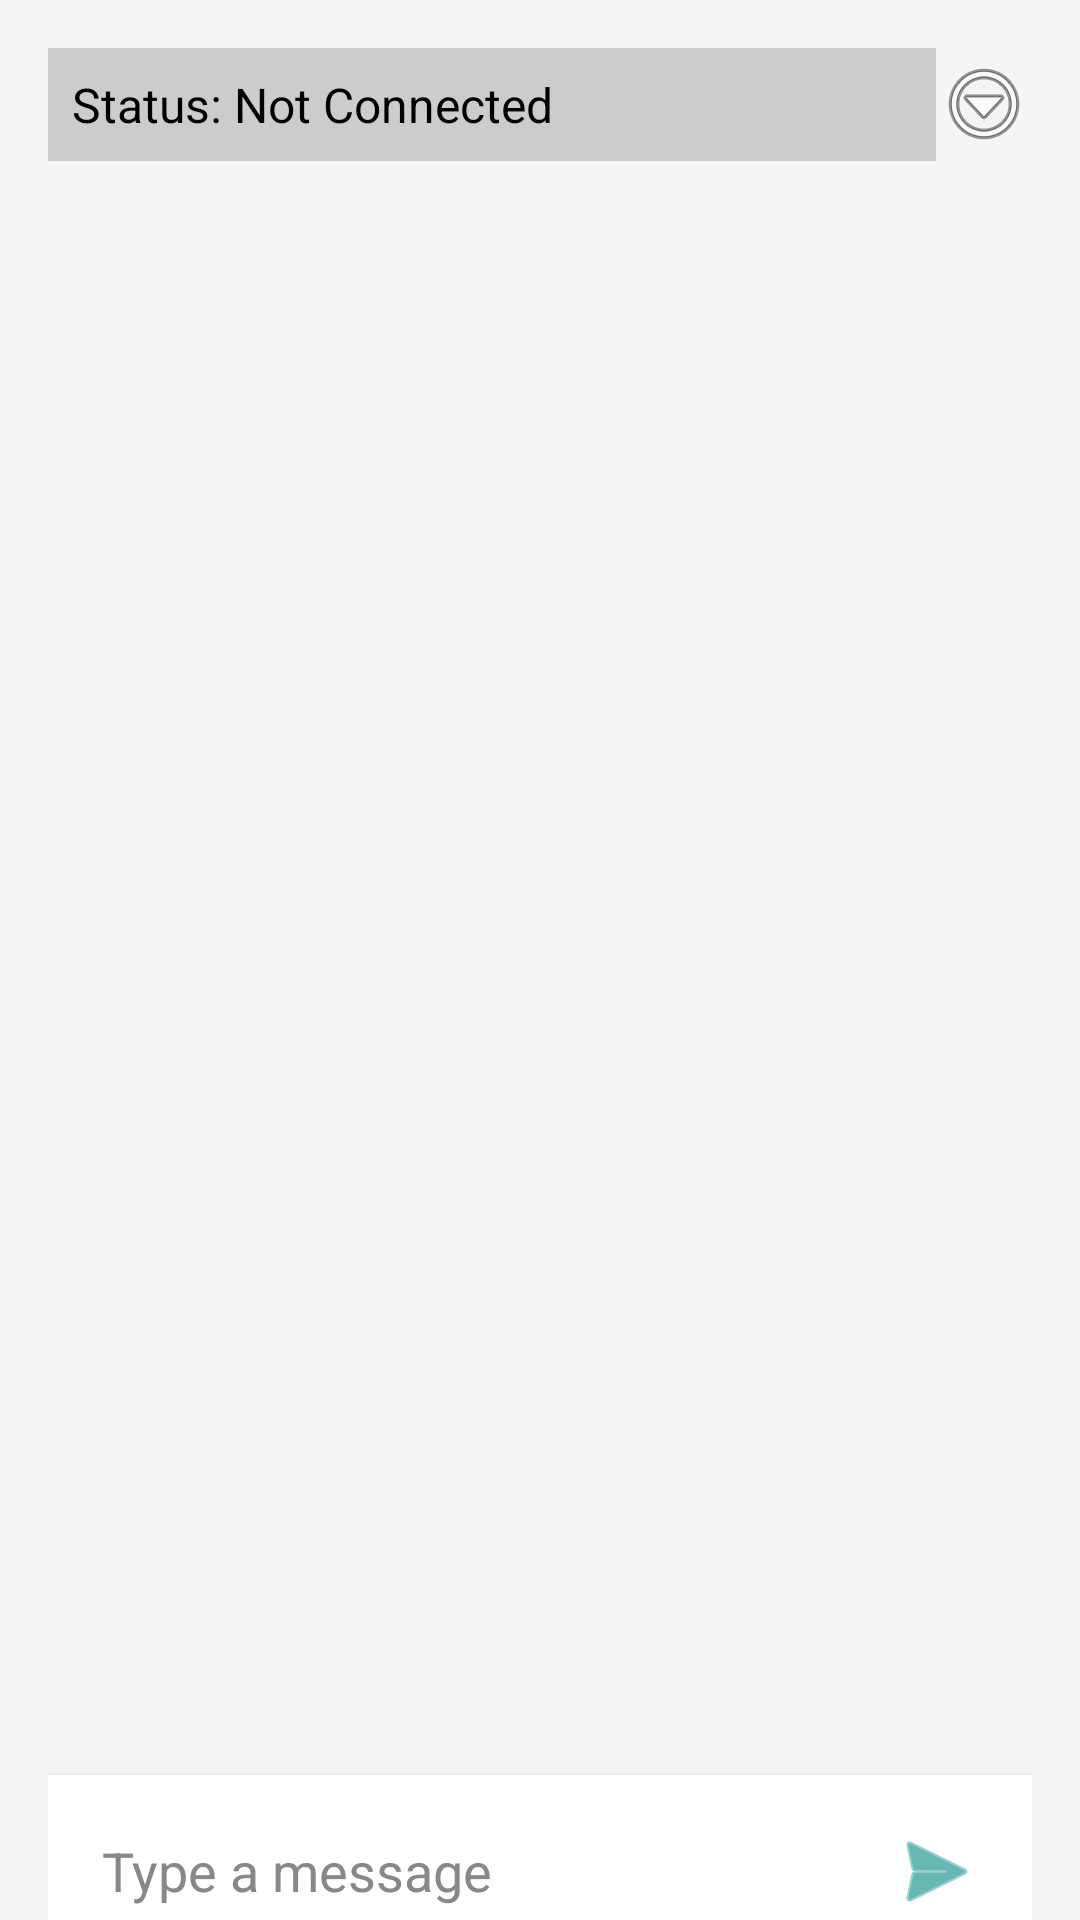

Icons on this 1080x1920 Android screen, each with its box as (x1, y1, x2, y2):
Menu: (948, 68, 1020, 140)
